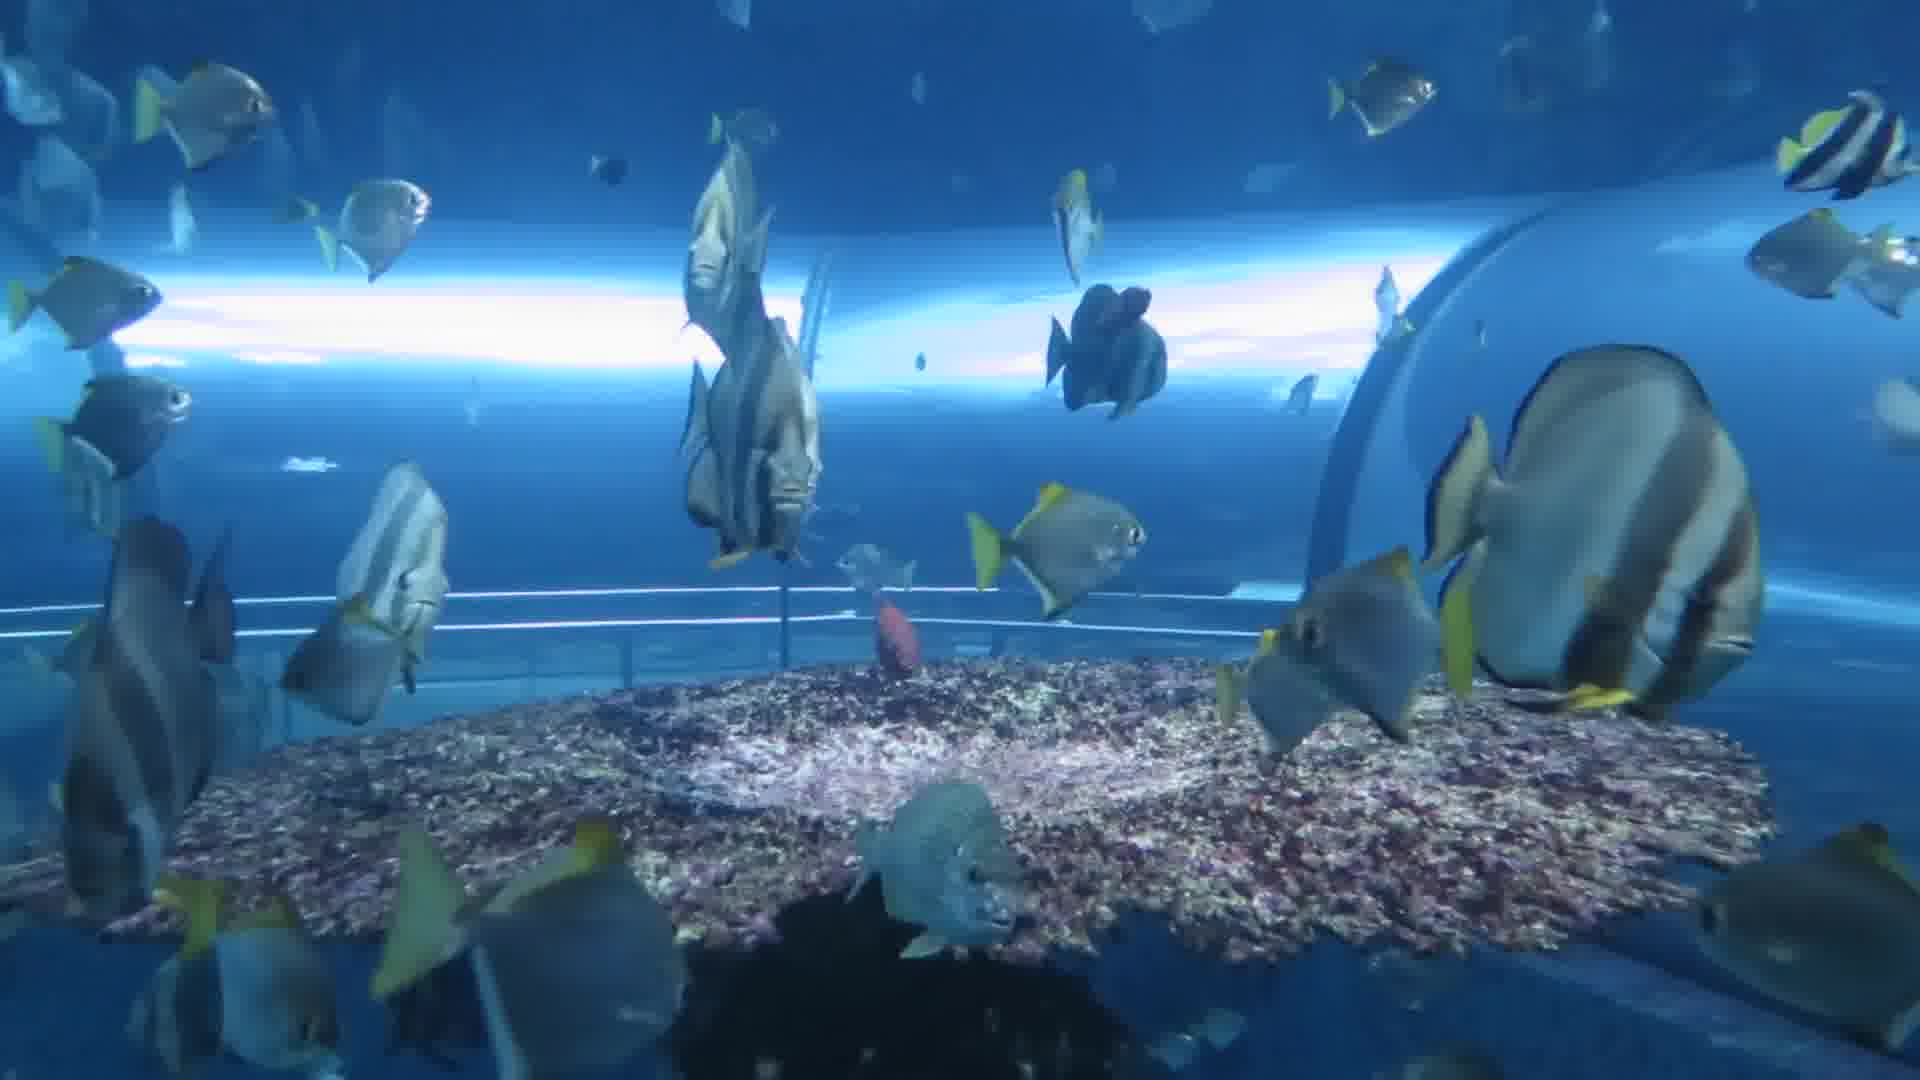Platax teira: (1425, 285, 1875, 741), (804, 740, 1121, 1010), (371, 810, 686, 1080), (44, 506, 236, 914), (273, 440, 493, 733), (658, 322, 878, 615), (54, 895, 353, 1080), (943, 429, 1192, 650), (1196, 546, 1445, 767), (646, 132, 803, 324), (305, 146, 462, 339), (133, 12, 290, 204), (8, 229, 160, 357), (49, 363, 200, 491)
